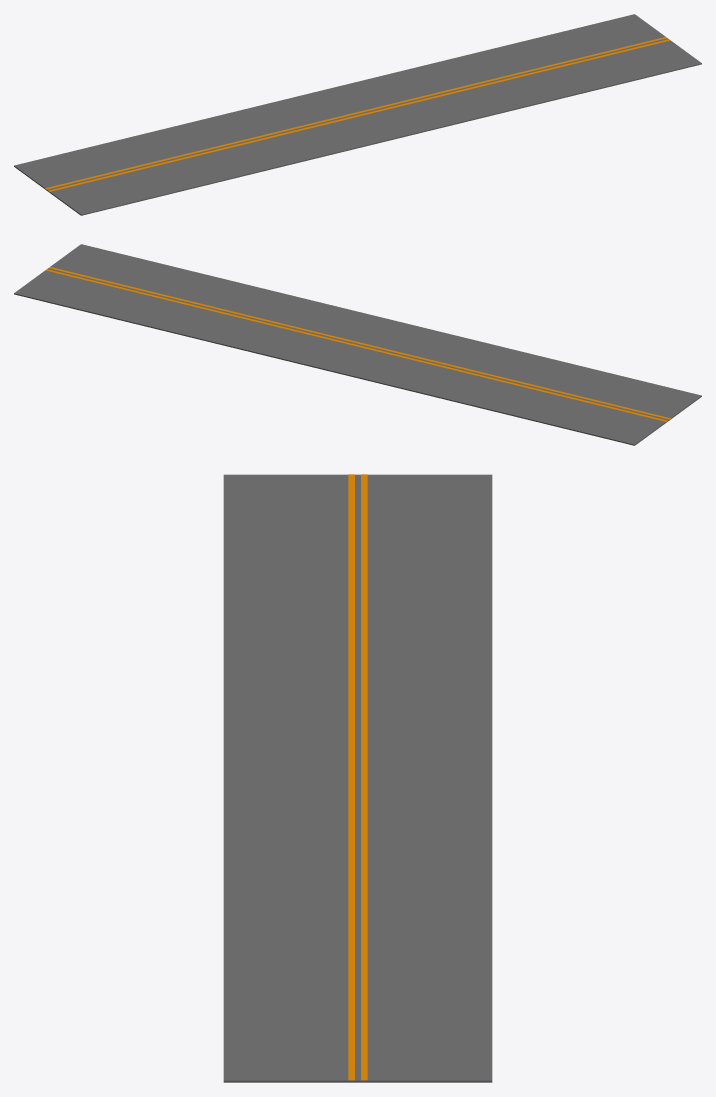
Rendered from двуполосная дорога (две полоски).fbx.
The picture shows the model from 3 angles, top to bottom: view 1: azimuth 30°, elevation 25°; view 2: azimuth 150°, elevation 25°; view 3: azimuth 270°, elevation 25°; orthographic projection. The views are drawn at different scales.
Parts seen in each view (by area): view 1: Cube, Cube.003, Cube.001; view 2: Cube, Cube.003, Cube.001; view 3: Cube, Cube.003, Cube.001.
Boxes of the visible parts, x1,y1,x2,y2 form: Cube: (14,14,701,215); Cube.003: (45,37,667,189); Cube.001: (48,39,670,191); Cube: (14,244,701,445); Cube.003: (45,269,667,421); Cube.001: (48,267,670,419); Cube: (223,474,492,1082); Cube.003: (361,474,367,1080); Cube.001: (348,474,354,1080).
Bounding box in the file's own units: 21864 × 40.71 × 4097.
